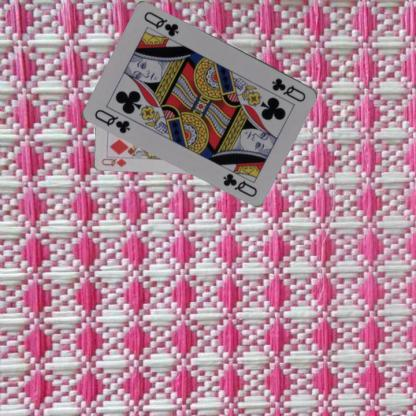Qc: (92, 107, 132, 136), (270, 75, 308, 104)
Qd: (99, 154, 130, 168)
